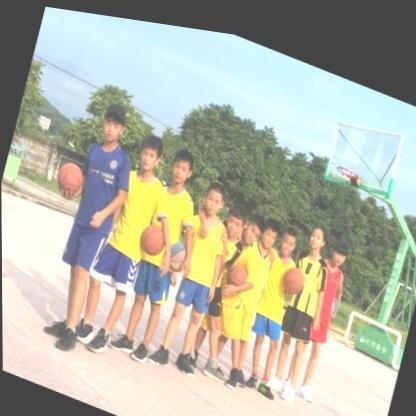basketball: (52, 157, 86, 196), (137, 215, 166, 255), (280, 254, 306, 288), (166, 233, 187, 269), (226, 255, 249, 282)
